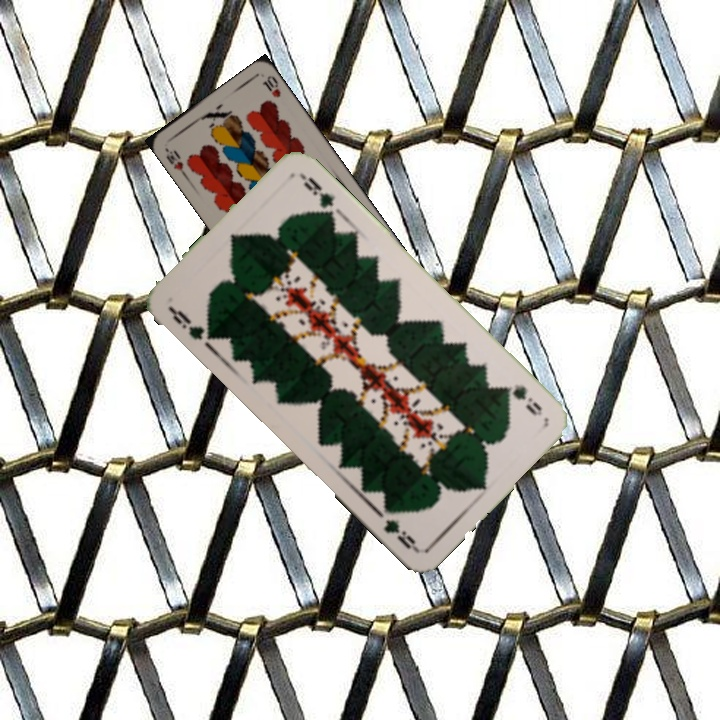G9: (165, 303, 219, 343), (499, 380, 545, 419)
H10: (161, 143, 189, 179)
